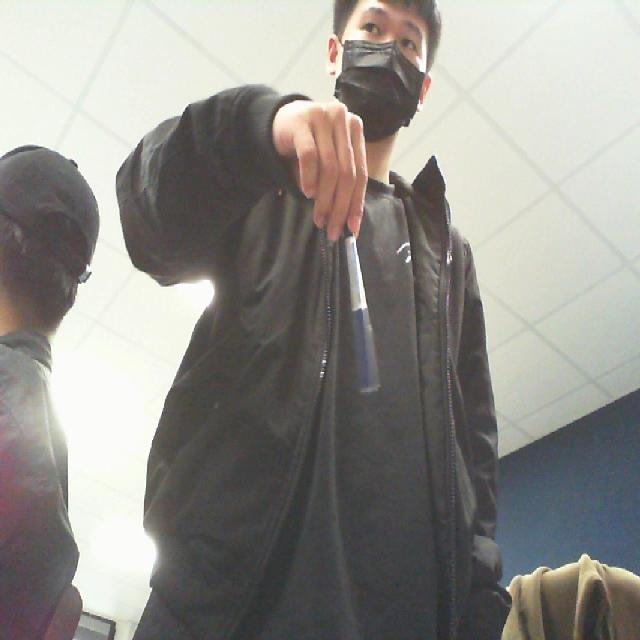Pen: (336, 217, 389, 419)
